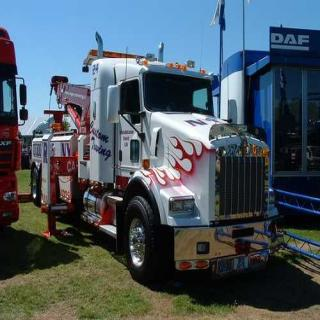Towing_truck: (30, 31, 284, 285)
